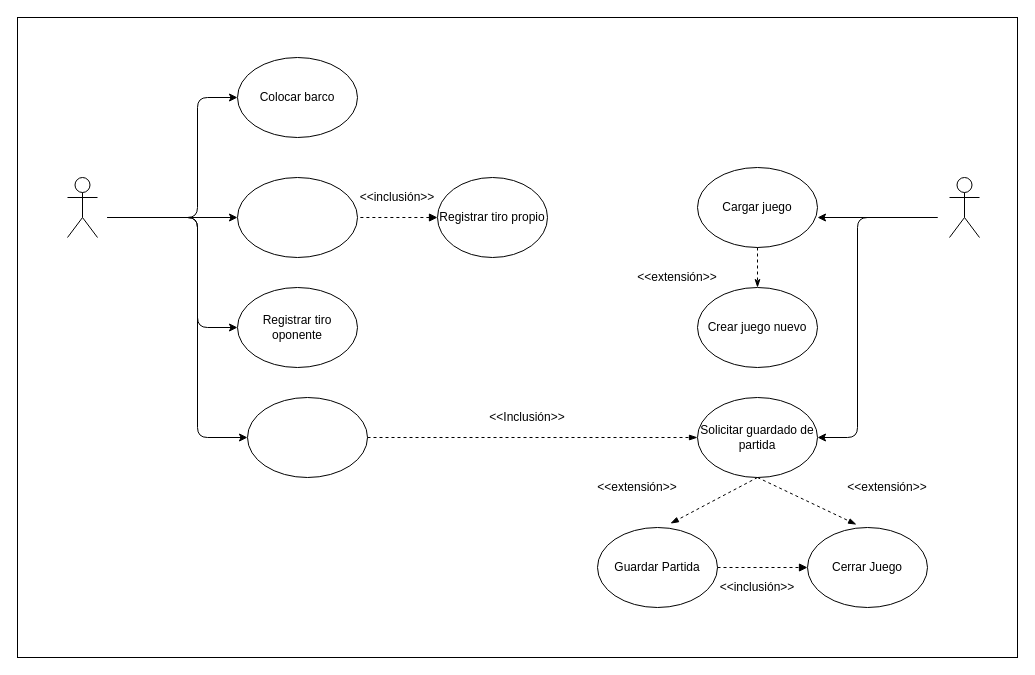
This 1035x675 diagram has some shape labels left out. Each missing label, with the centre of its shape:
"Atacar Oponente" belongs at (x=297, y=217).
"Jugador" belongs at (x=82, y=207).
"Sistema" belongs at (x=964, y=207).
"Solicitar cierre de juego" belongs at (x=307, y=437).
